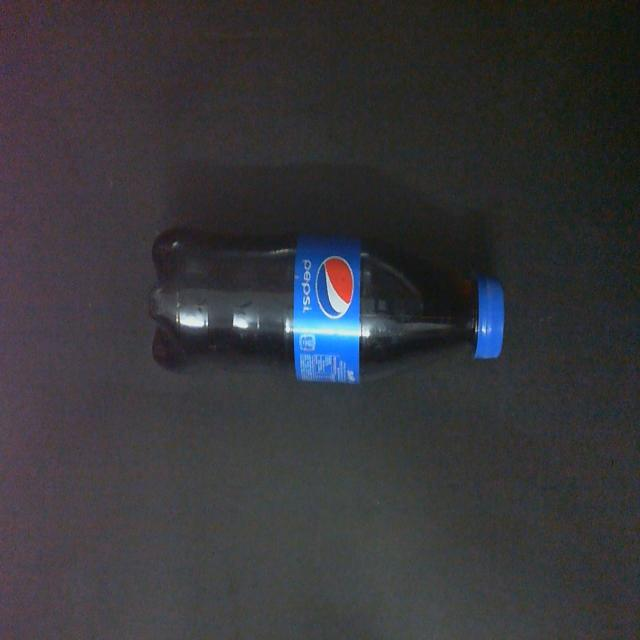non-defect: (146, 225, 507, 390)
